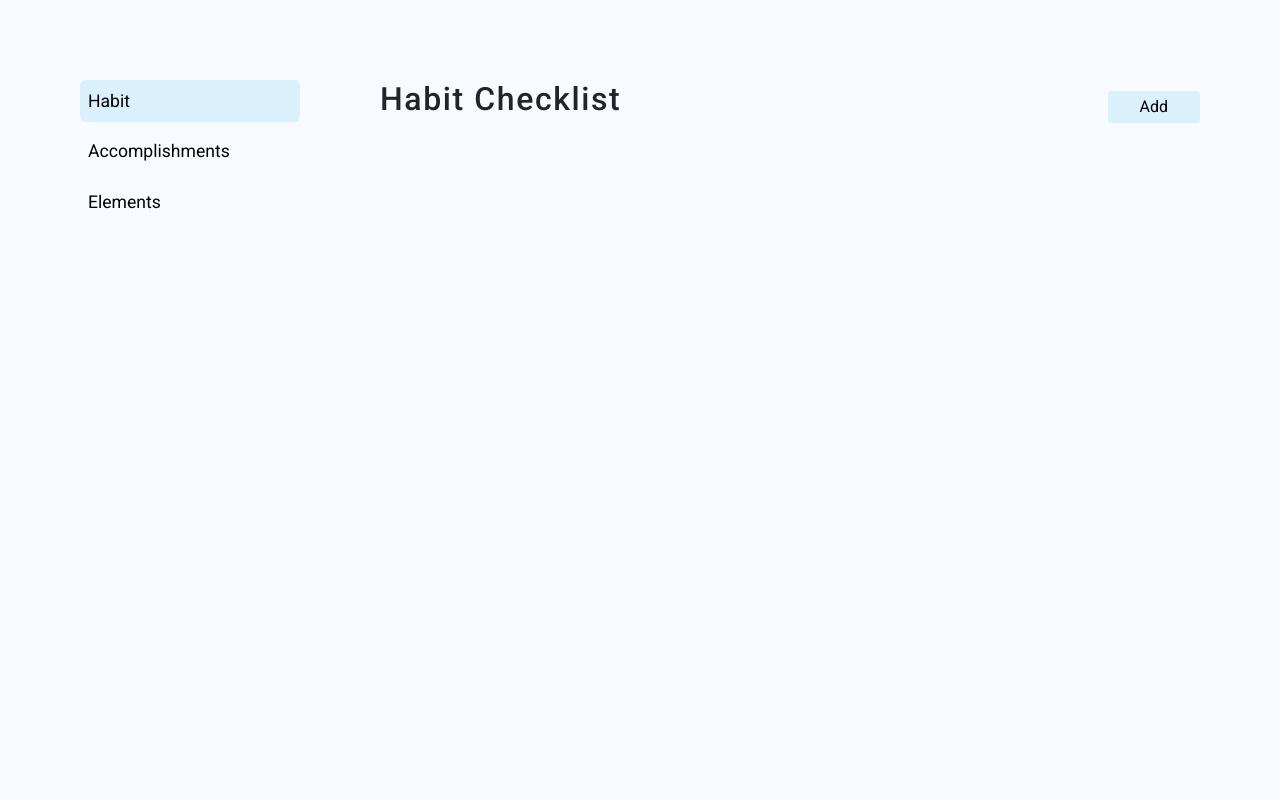
Scenario: habits › Click on the close button, the modal title should not be visible
This screenshot has width=1280, height=800.
Click the button "Add" at x=1155, y=107, box [1108,91,1201,123]
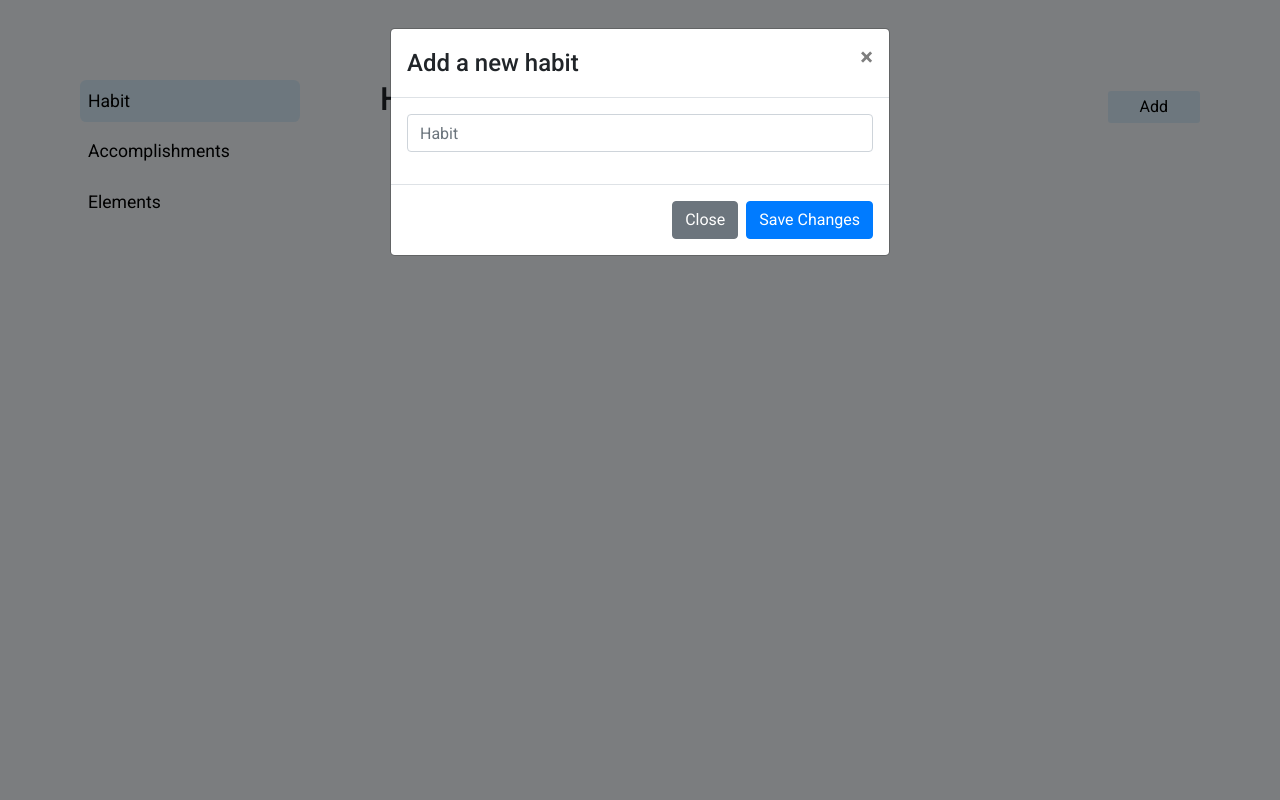
Check: the text "Add a new habit" is shown, box [407,45,579,81]
Click the button "Close" at x=867, y=57, box [844,29,889,85]
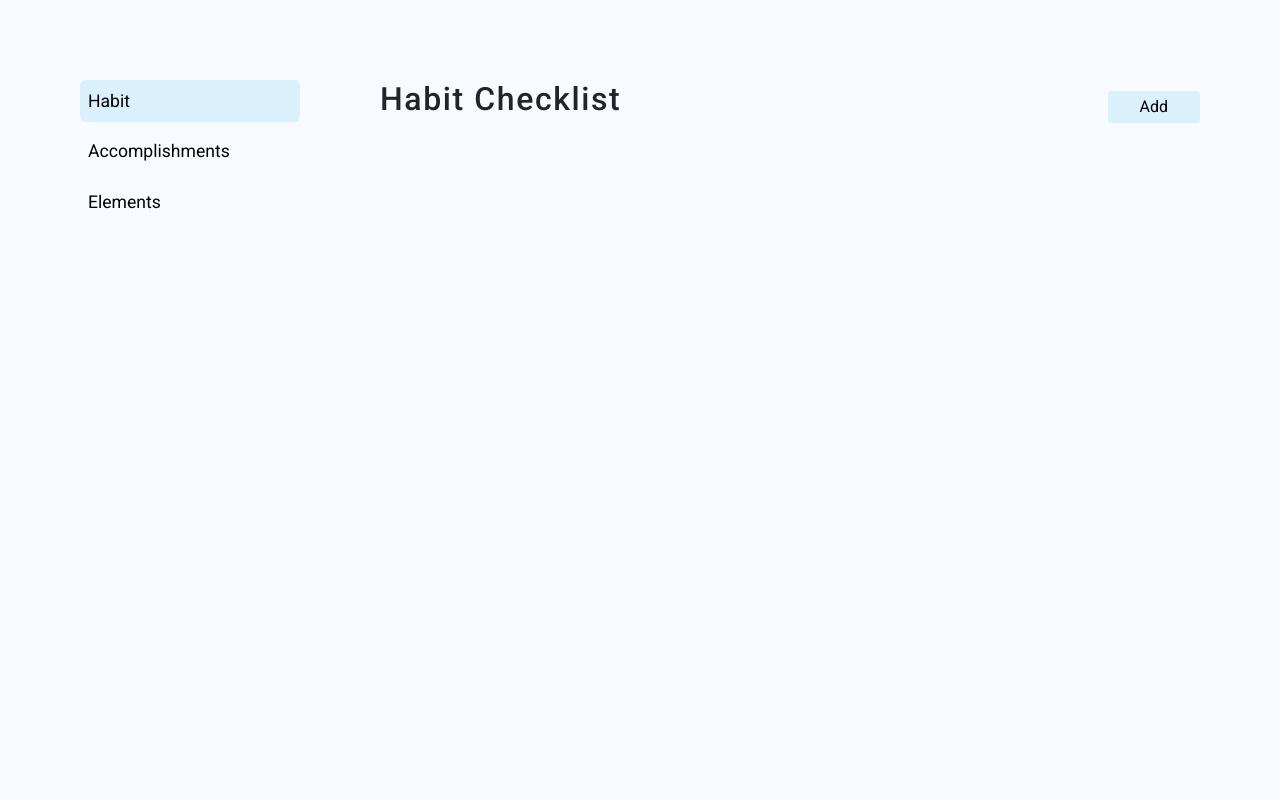
Check: the text "Add a new habit" is gone
